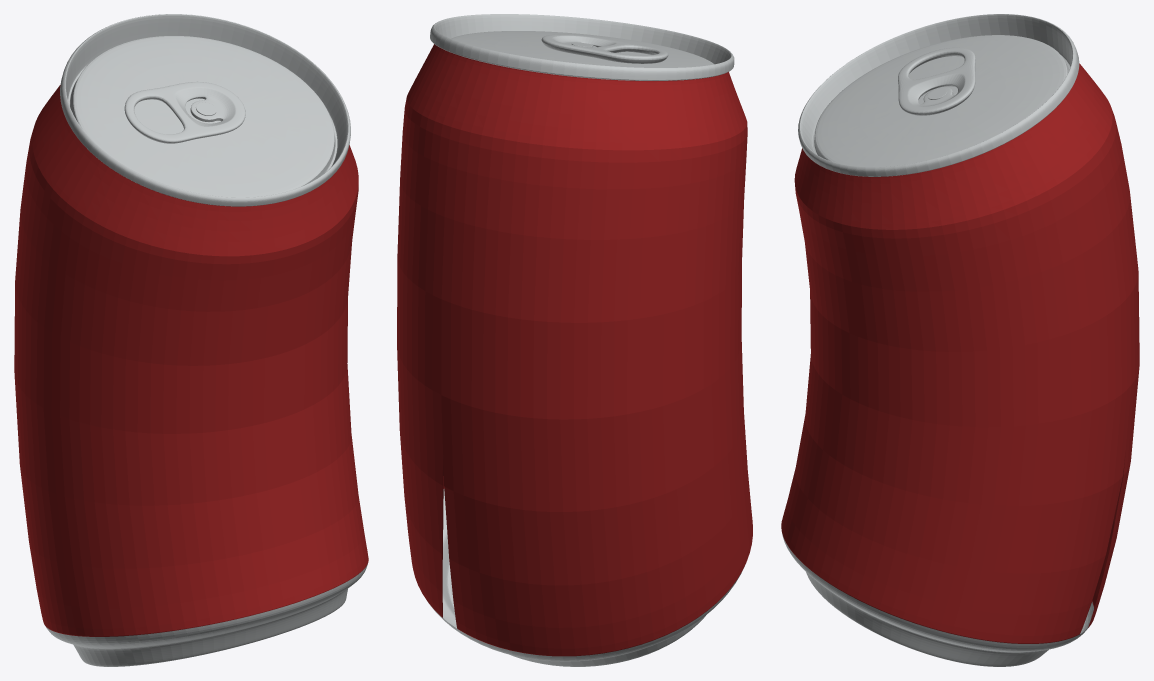
Rendered from bend_medium_0.obj.
The picture shows the model from 3 angles, left to right: view 1: azimuth 30°, elevation 25°; view 2: azimuth 150°, elevation 25°; view 3: azimuth 270°, elevation 25°; orthographic projection. The views are drawn at different scales.
Parts seen in each view (by area): view 1: model; view 2: model; view 3: model.
Part boxes in pixels (x1,y1,x2,y2): model: [14, 14, 368, 666]; model: [397, 14, 752, 666]; model: [781, 14, 1139, 666].
Size of the model in its own units: 0.0697 by 0.1353 by 0.0746.
1 material, 1 textured.
